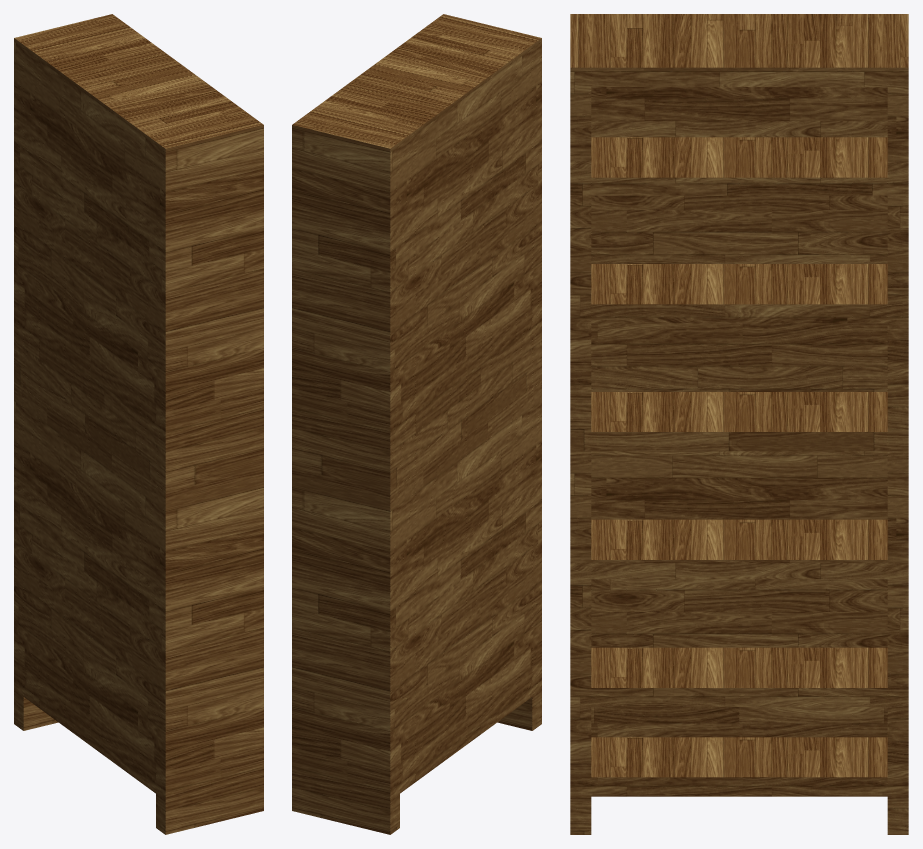
The model's file is Bookcase001.FBX.
The picture shows the model from 3 angles, left to right: view 1: azimuth 30°, elevation 25°; view 2: azimuth 150°, elevation 25°; view 3: azimuth 270°, elevation 25°; orthographic projection. The views are drawn at different scales.
Visible parts, largest first — view 1: Bookcase001; view 2: Bookcase001; view 3: Bookcase001.
Boxes of the visible parts, left/top/right/bottom form: Bookcase001: left=14, top=14, right=263, bottom=834; Bookcase001: left=292, top=14, right=541, bottom=834; Bookcase001: left=570, top=14, right=908, bottom=834.
Bounding box in the file's own units: 30 × 200 × 80.
